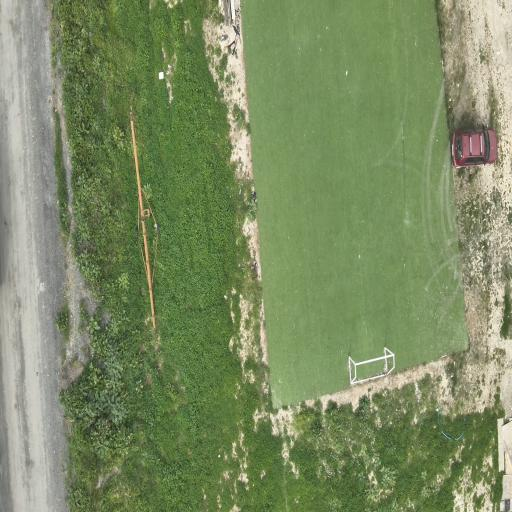car: (452, 128, 497, 167)
